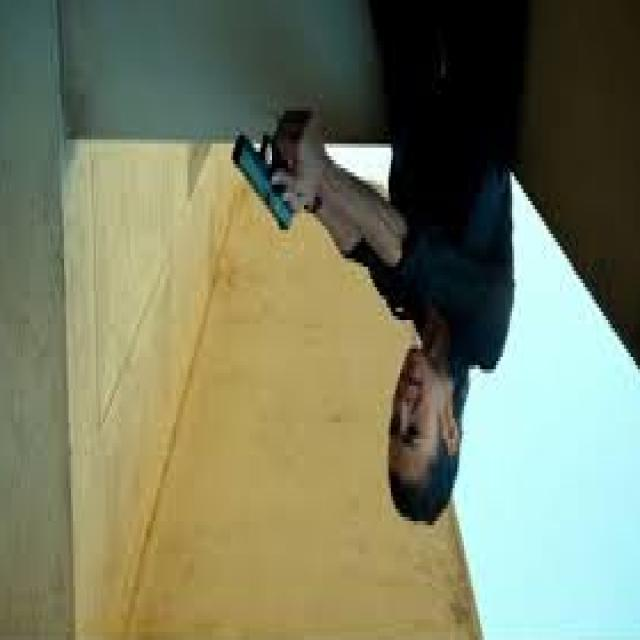gun: (224, 65, 308, 254)
